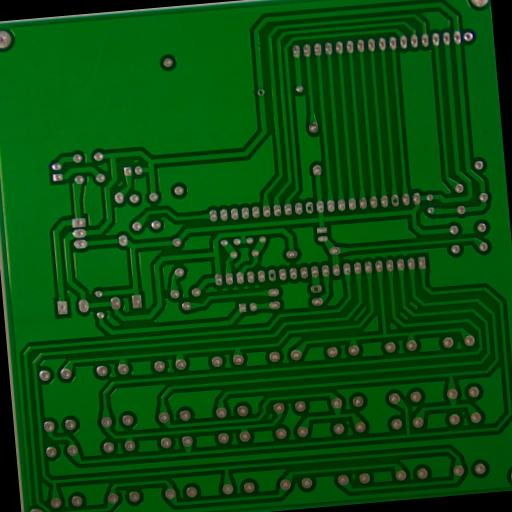missing_hole: (257, 88, 266, 97), (312, 284, 320, 294), (268, 272, 276, 280), (306, 204, 313, 212), (392, 197, 399, 204)
